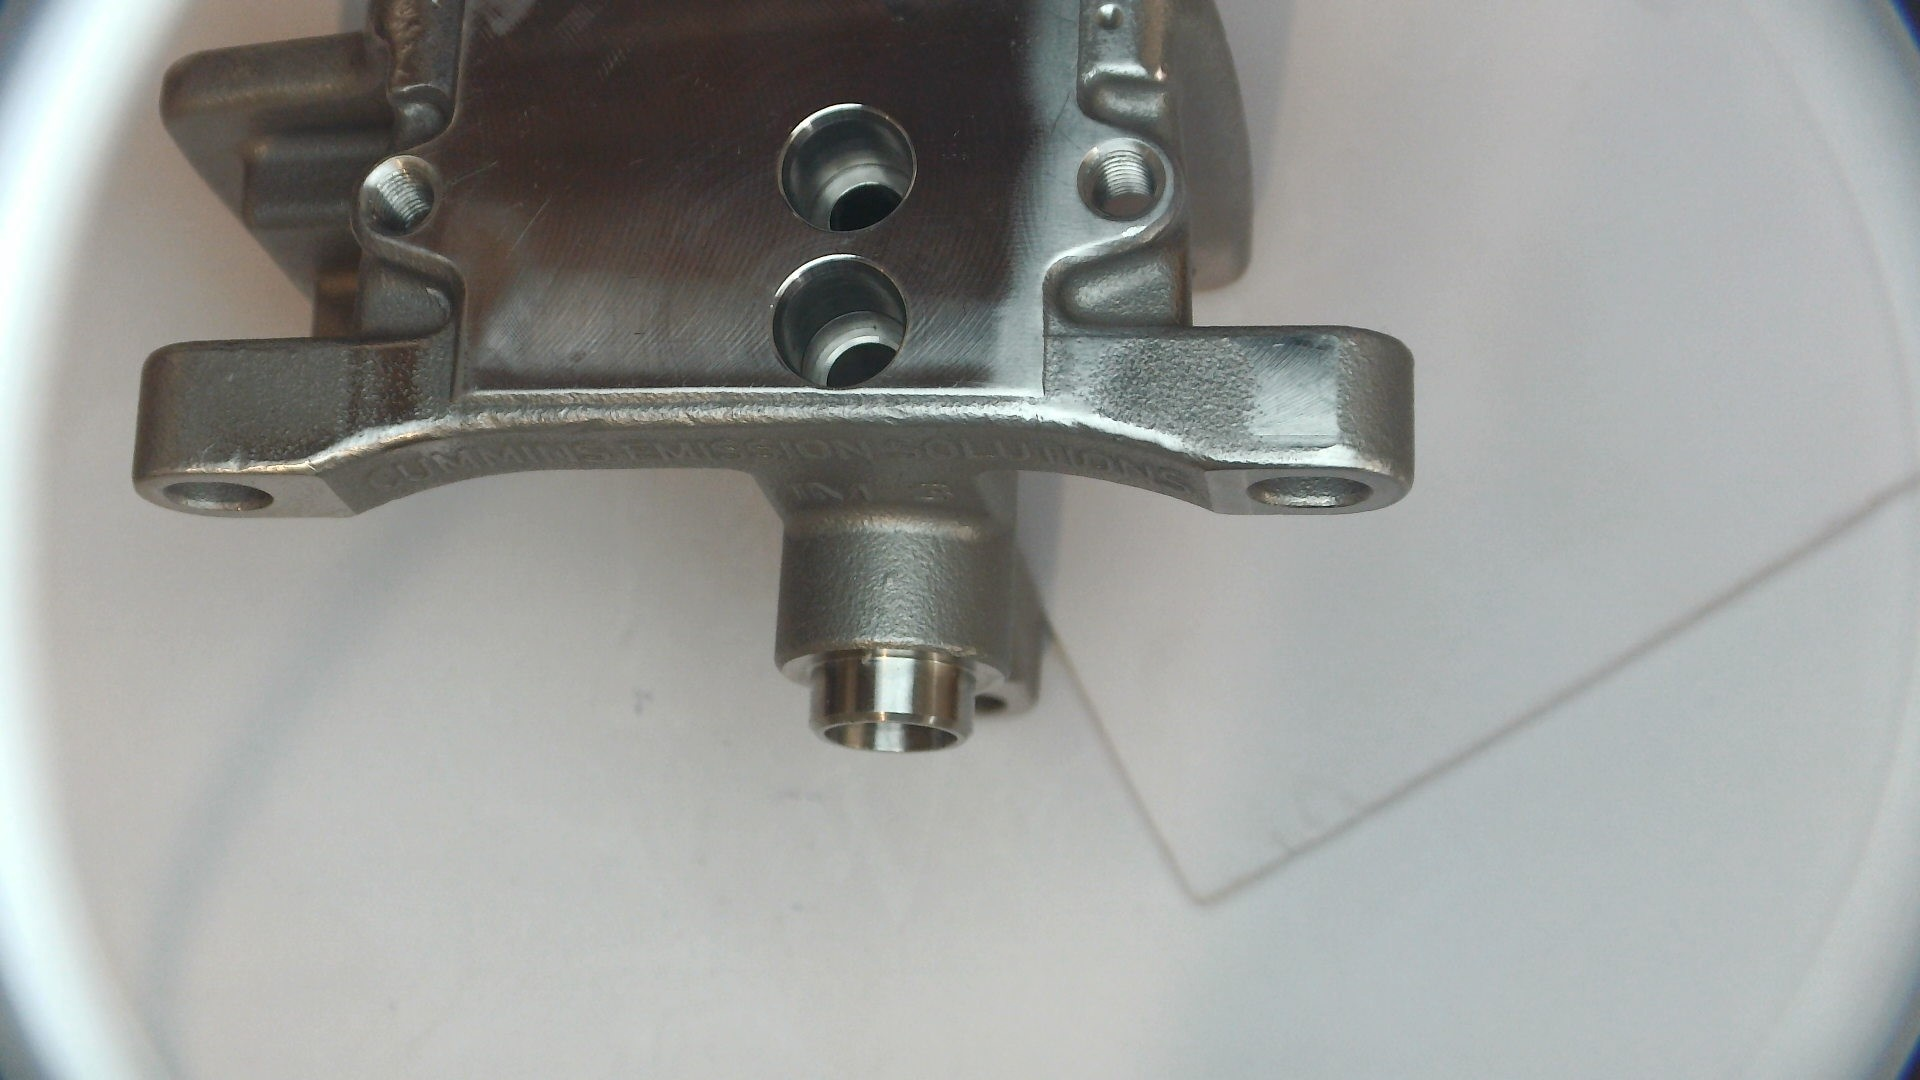thread_absence: (765, 249, 913, 392), (774, 102, 919, 236)
thread_presence: (367, 165, 436, 236), (1085, 146, 1160, 204)
